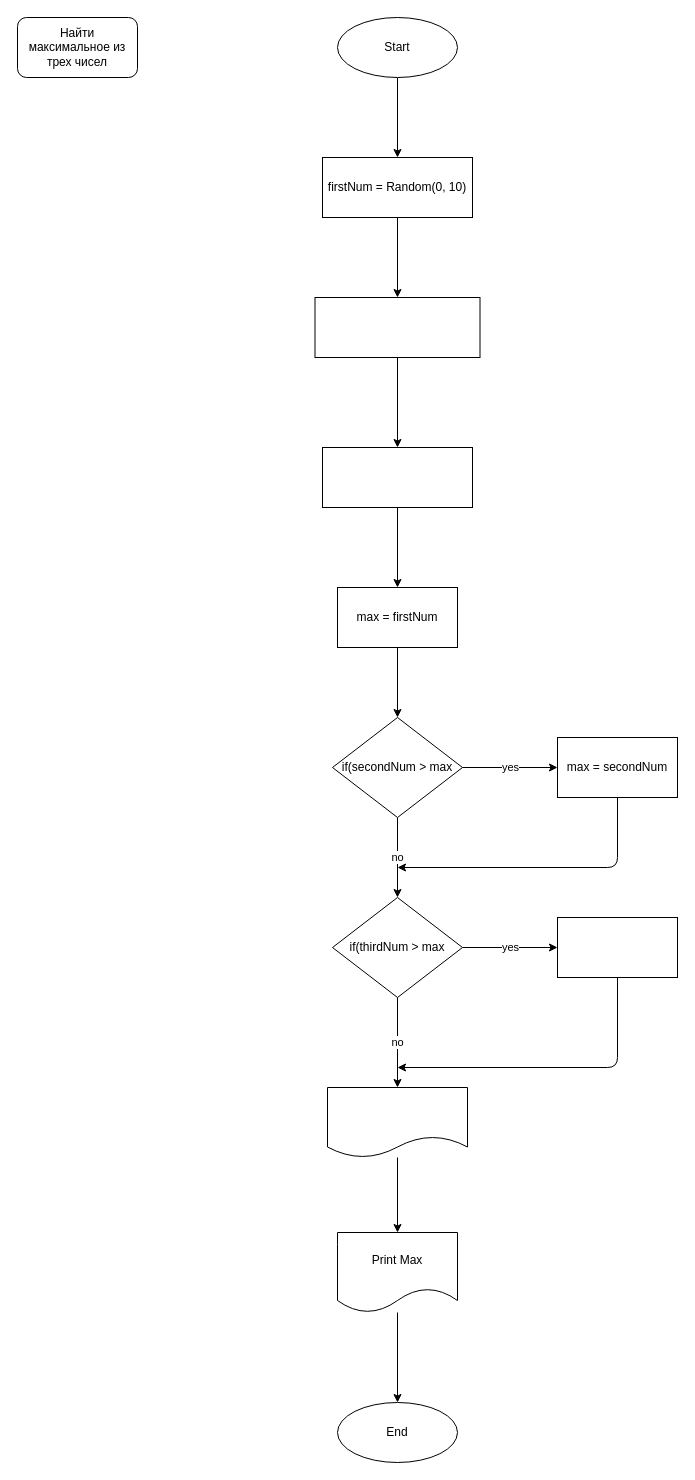
The diagram is 695 pixels wide and 1480 high, and some of its shapes have lost their labels. Each missing label, with the centre of its shape:
max = thirdNum: [617,947]
Print firstNum, secondNum, thirdNum: [397,1122]
secondNum = Random(0, 10): [397,327]
thirdNum = Random(0, 10): [397,477]
